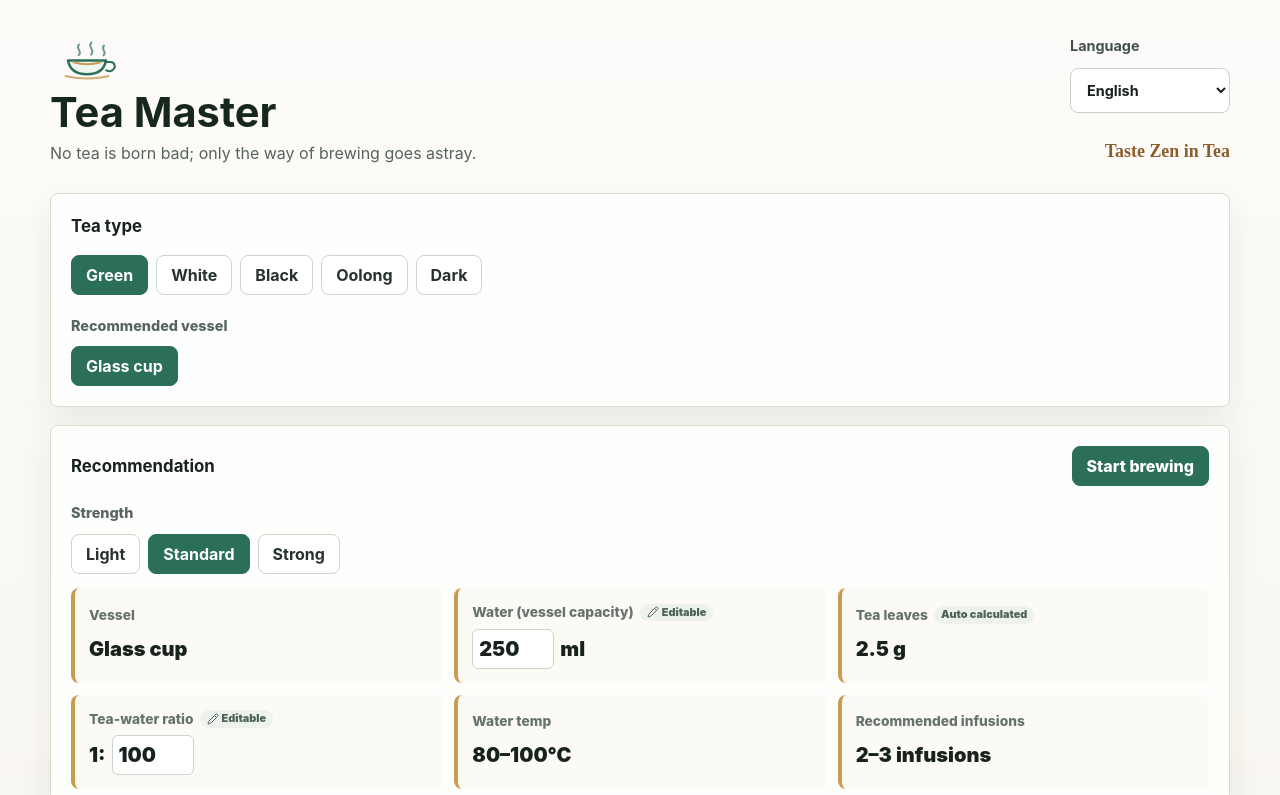
Tea Master app › shows the revised white tea gaiwan-only recommendation, rinse, and six-to-seven infusion flow
Select "中文" in the dropdown labelled "Language" at (1150, 91), box 1070,68 -> 1230,113
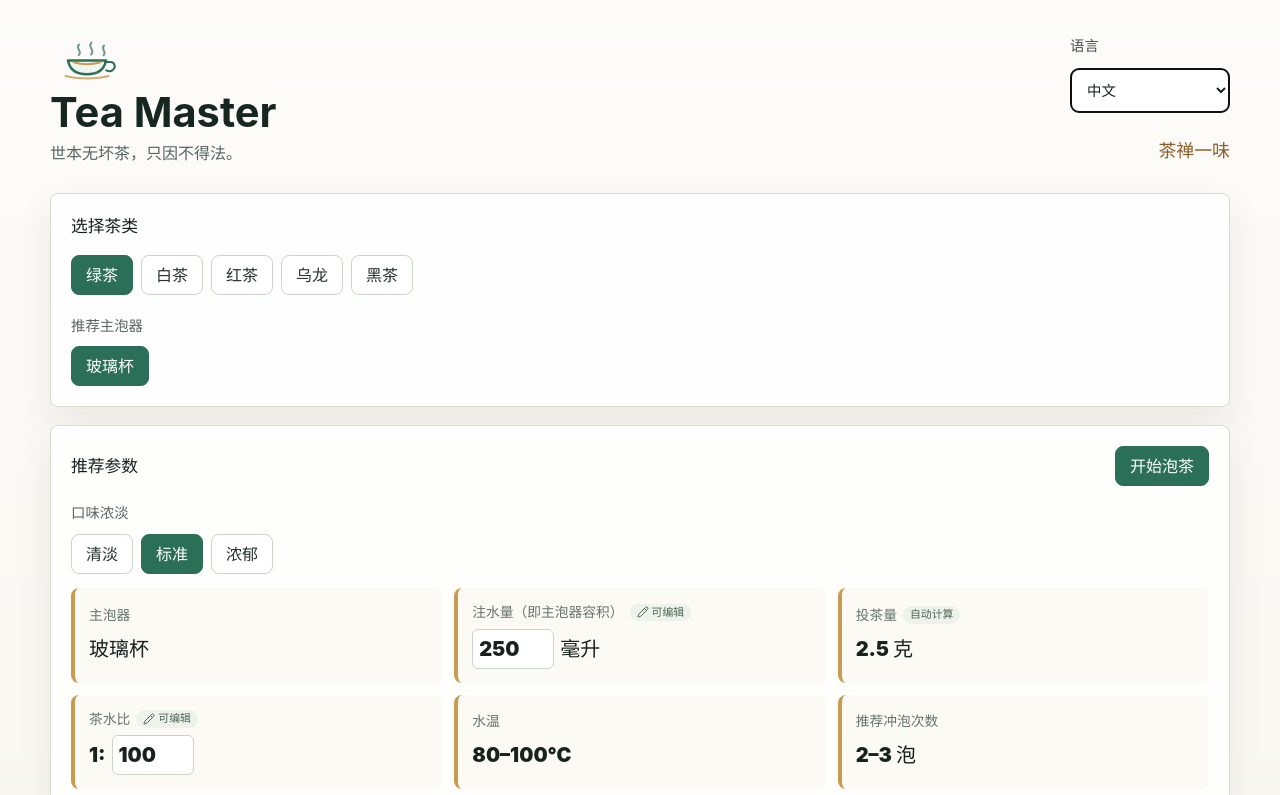
Click the tab "白茶" at (172, 275), box 141,255 -> 203,295
(page scrolled)
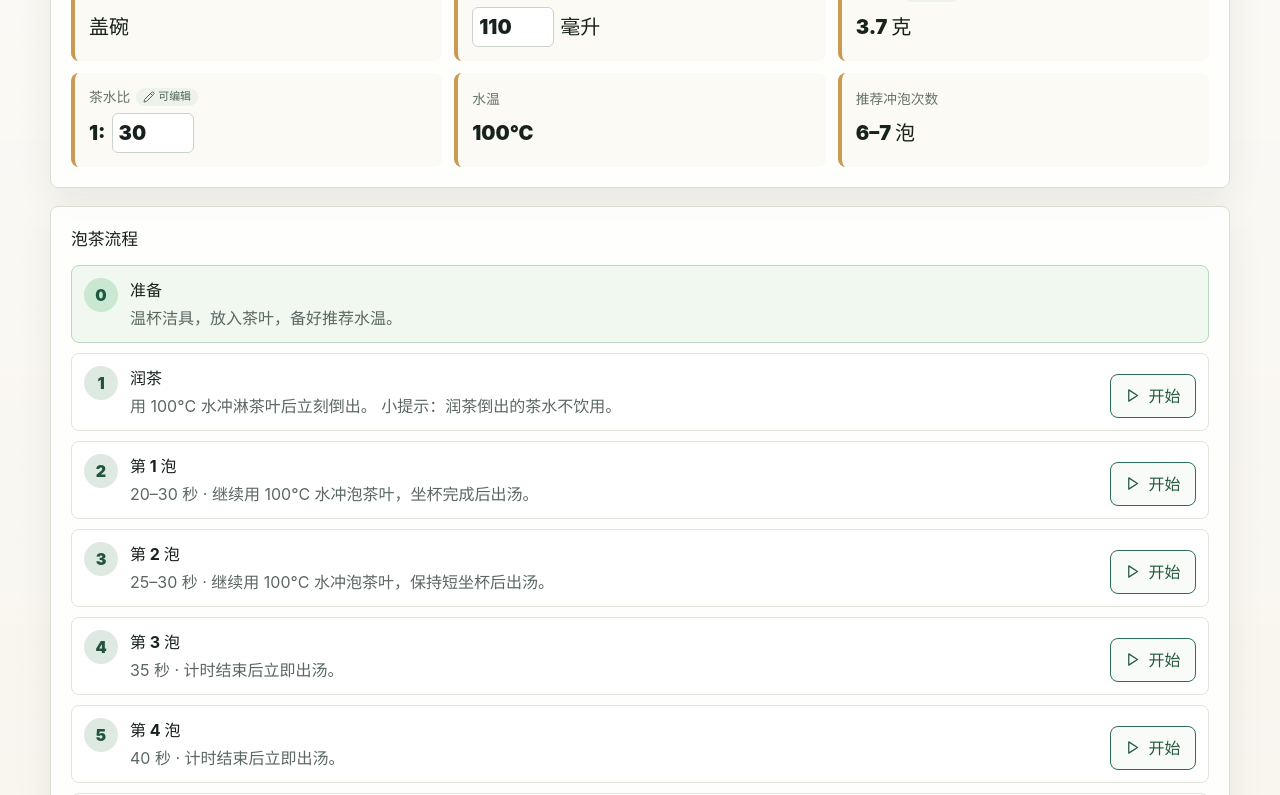
Now the text with test id "infusion-count" reads "6–7 泡", box 856,121 -> 915,145
Now the list item "润茶" shows "100°C", box 130,396 -> 621,416
Now the list item "润茶" shows "立刻倒出", box 130,396 -> 621,416
Click the button "开始" in the row of "用 100°C 水冲淋茶叶后立刻倒出。 小提示：润茶倒出的茶水不饮用。" at (1153, 396), box 1110,374 -> 1196,418
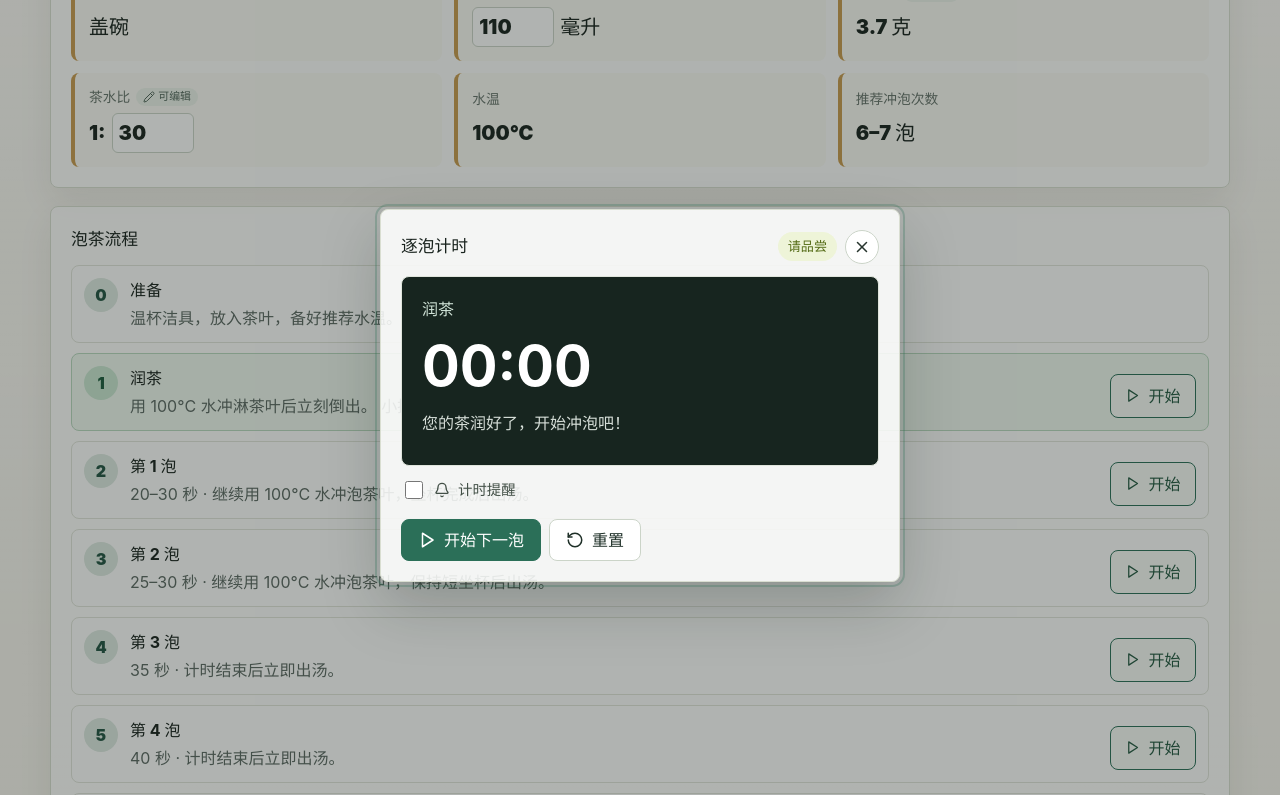
Now the text "您的茶润好了，开始冲泡吧！" is shown, box 422,413 -> 630,433
